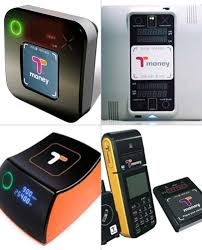terminal: (2, 5, 98, 124)
